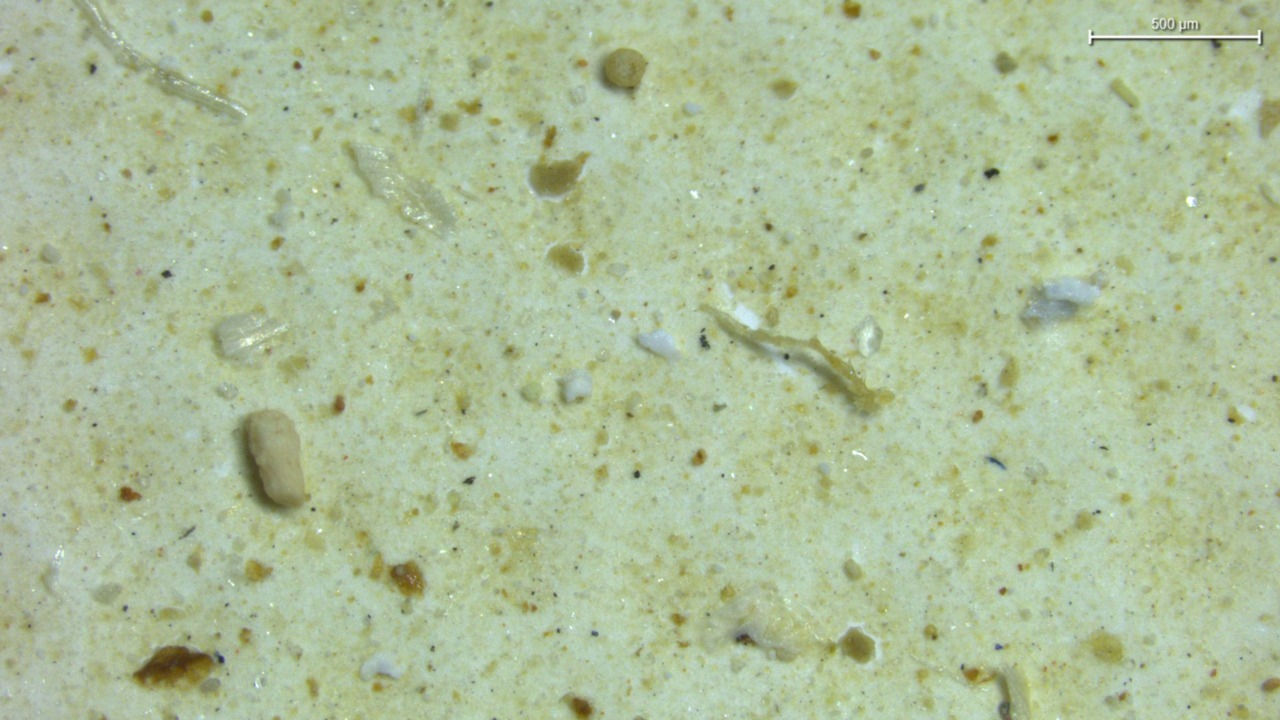microplastic_fragment: (350, 144, 456, 234), (244, 409, 305, 506), (1020, 277, 1100, 324), (215, 313, 288, 364), (603, 48, 648, 89), (637, 330, 680, 358), (559, 369, 592, 402)
